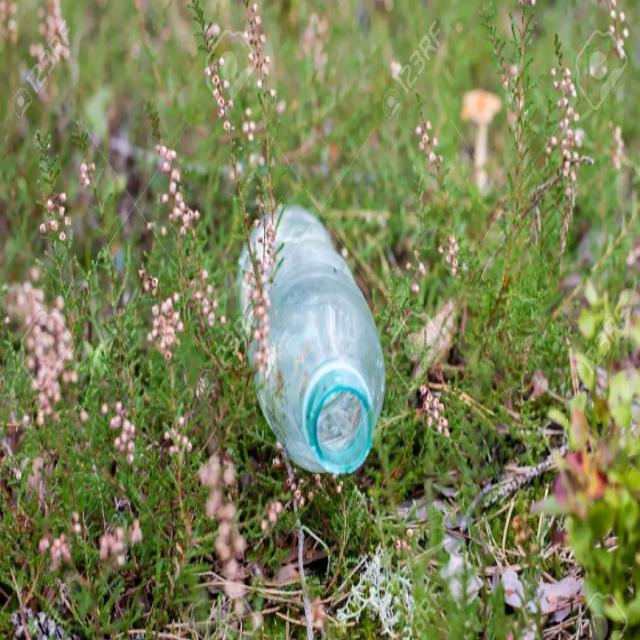plastic: (222, 185, 400, 508)
